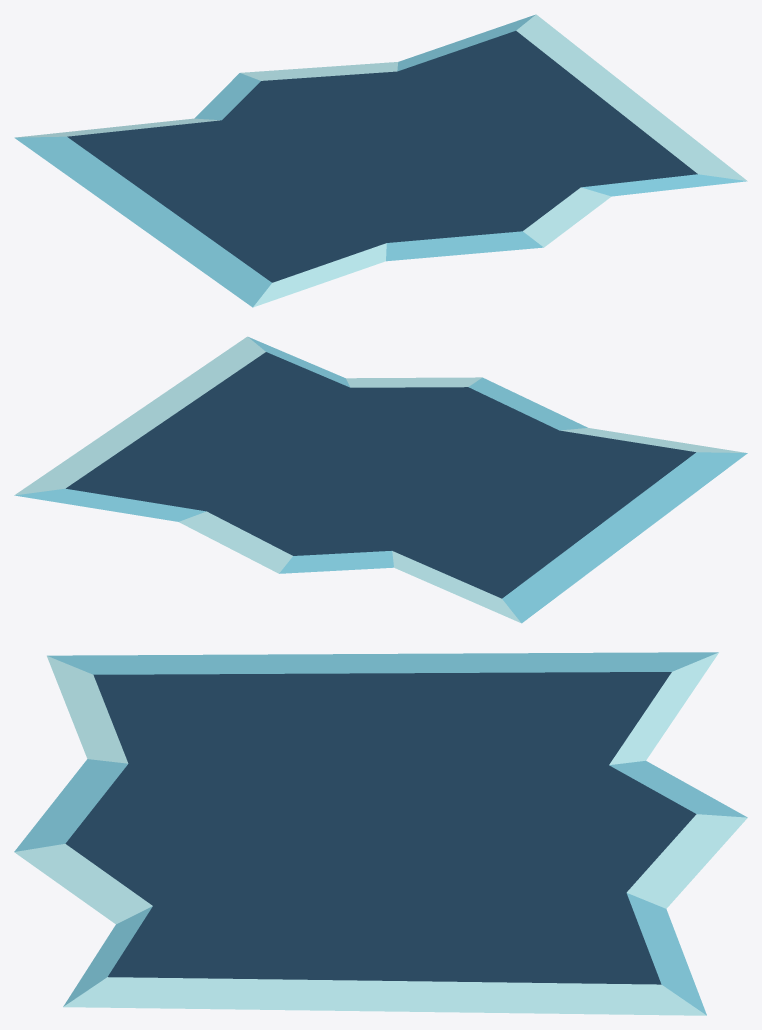
Rendered from ice_crevasse.glb.
3 views of the same model, one above another, from view 1: azimuth 30°, elevation 25°; view 2: azimuth 150°, elevation 25°; view 3: azimuth 270°, elevation 25° (orthographic). The views are drawn at different scales.
Visible parts, largest first — view 1: Prop_ice_crevasse; view 2: Prop_ice_crevasse; view 3: Prop_ice_crevasse.
Boxes of the visible parts, <box> form: Prop_ice_crevasse: <box>14,14,747,307</box>; Prop_ice_crevasse: <box>14,336,747,623</box>; Prop_ice_crevasse: <box>14,652,747,1015</box>.
Bounding box in the file's own units: 2.11 × 0.019 × 1.8.
